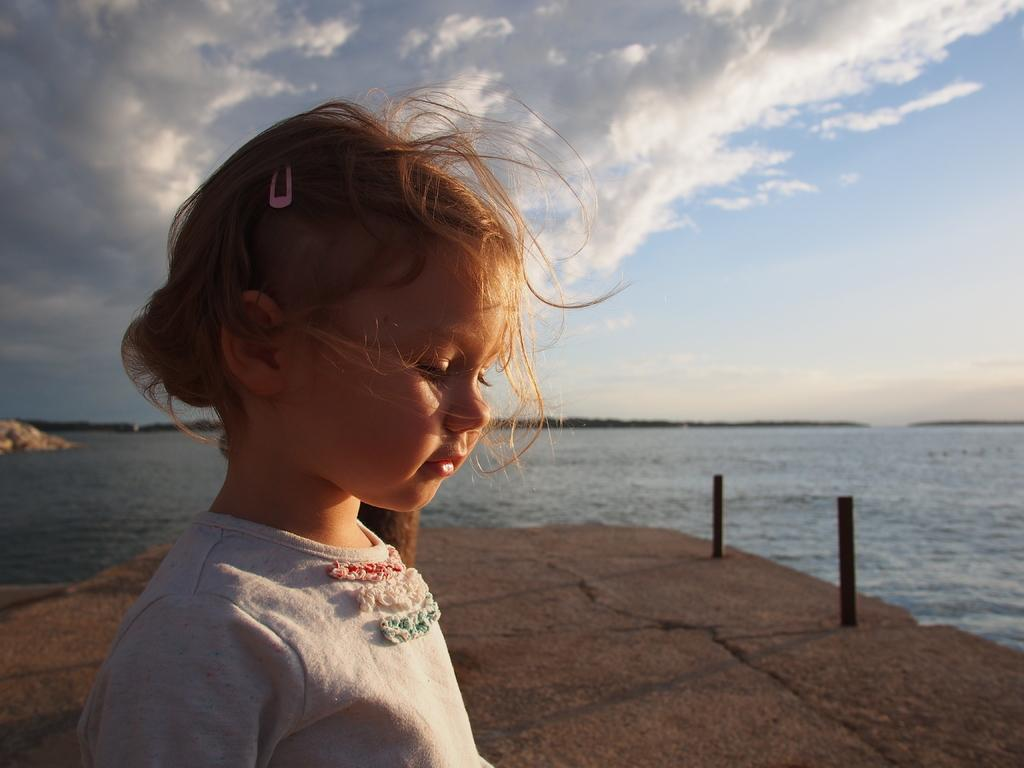Sem Máscara: (284, 263, 513, 511)
